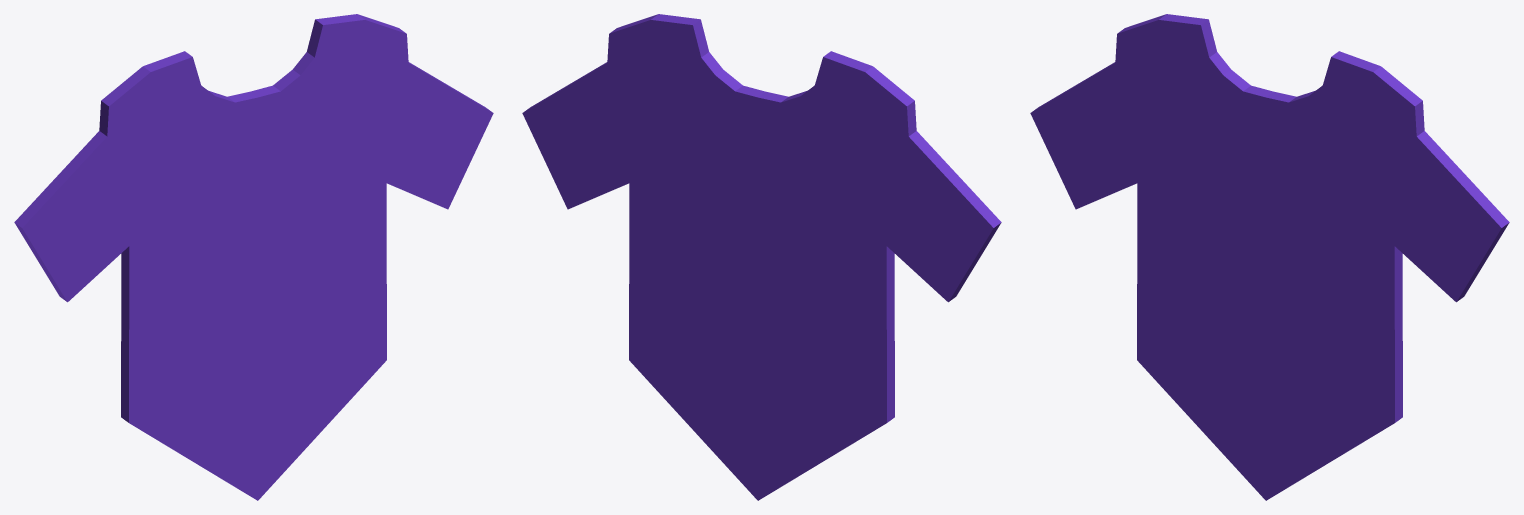
The model's file is football_jersey.fbx.
3 renders of one model, left to right at view 1: azimuth 30°, elevation 25°; view 2: azimuth 150°, elevation 25°; view 3: azimuth 330°, elevation 25°, orthographic.
Visible parts, largest first — view 1: Plane.001; view 2: Plane.001; view 3: Plane.001.
Boxes of the visible parts, x1=… form: Plane.001: x1=14, y1=14, x2=493, y2=500; Plane.001: x1=522, y1=14, x2=1001, y2=500; Plane.001: x1=1030, y1=14, x2=1509, y2=500.
Size of the model in its own units: 79 by 73.65 by 2.32.
